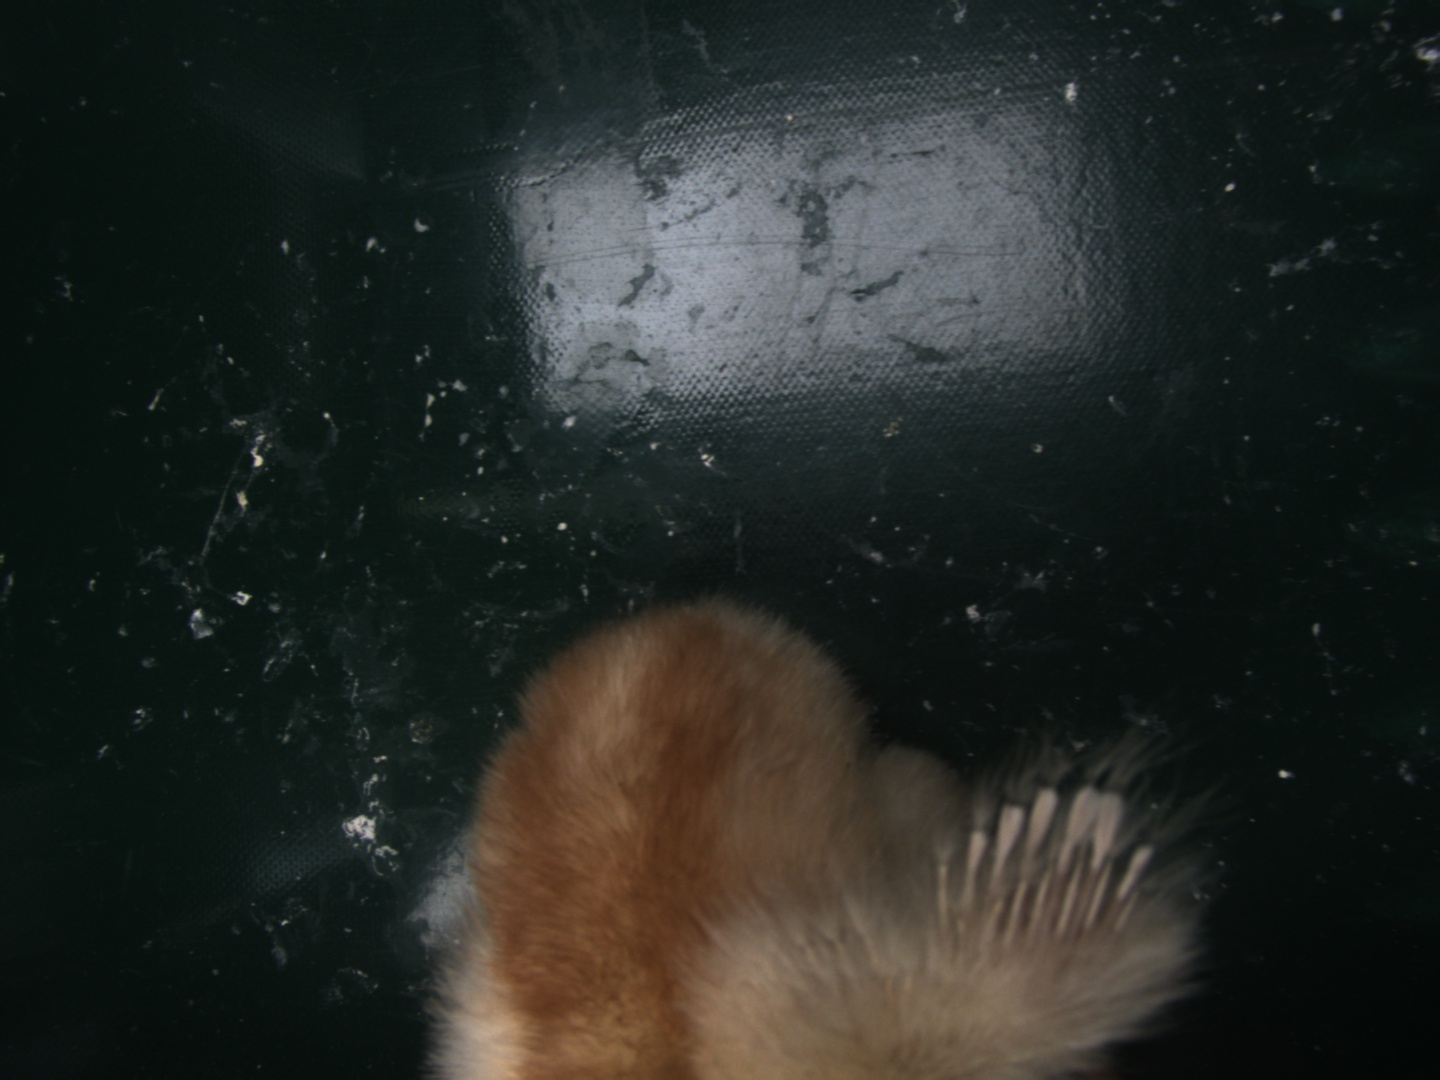female: (927, 785, 1158, 940)
